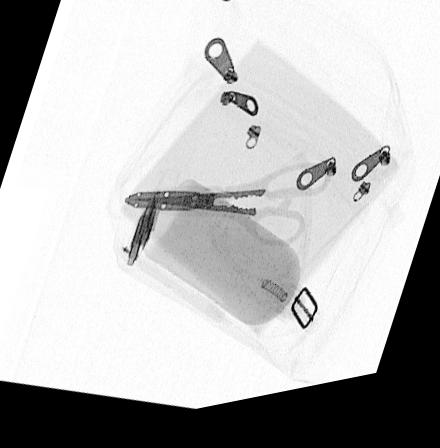Scissors: (124, 172, 332, 261)
